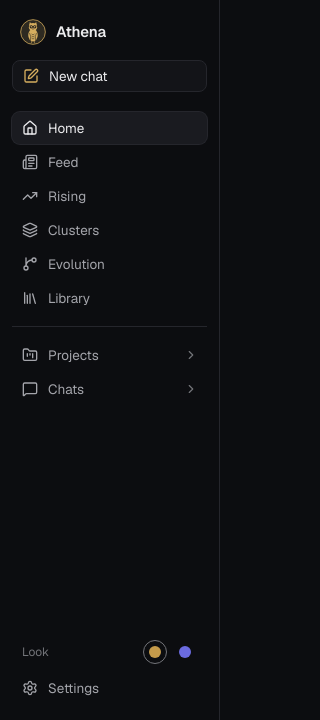
Test: Sidebar › lists the chats under the Chats link only when opened
Expected: the link "LoRA questions" is not shown
Click the button named "Show chats" at x=191, y=389, box [179,377,203,401]
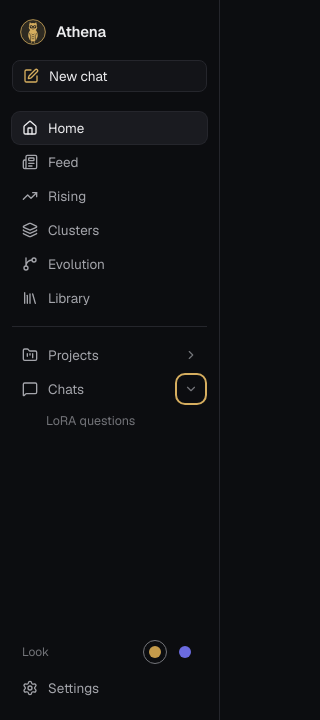
Click the button named "Hide chats" at x=191, y=389, box [179,377,203,401]
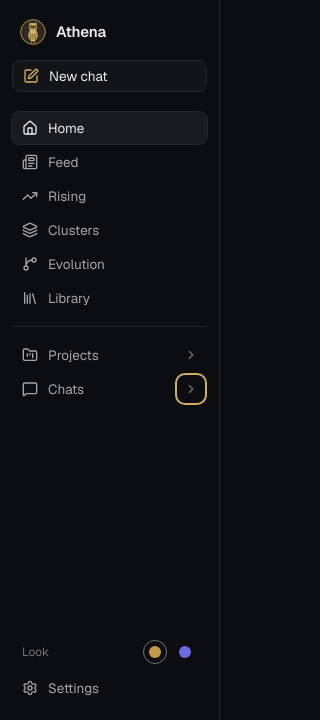
Expected: the link "LoRA questions" is gone
